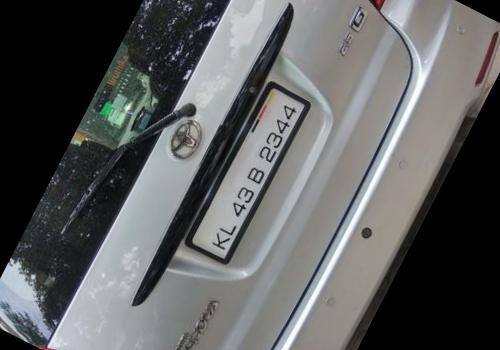plate: (164, 43, 337, 289)
